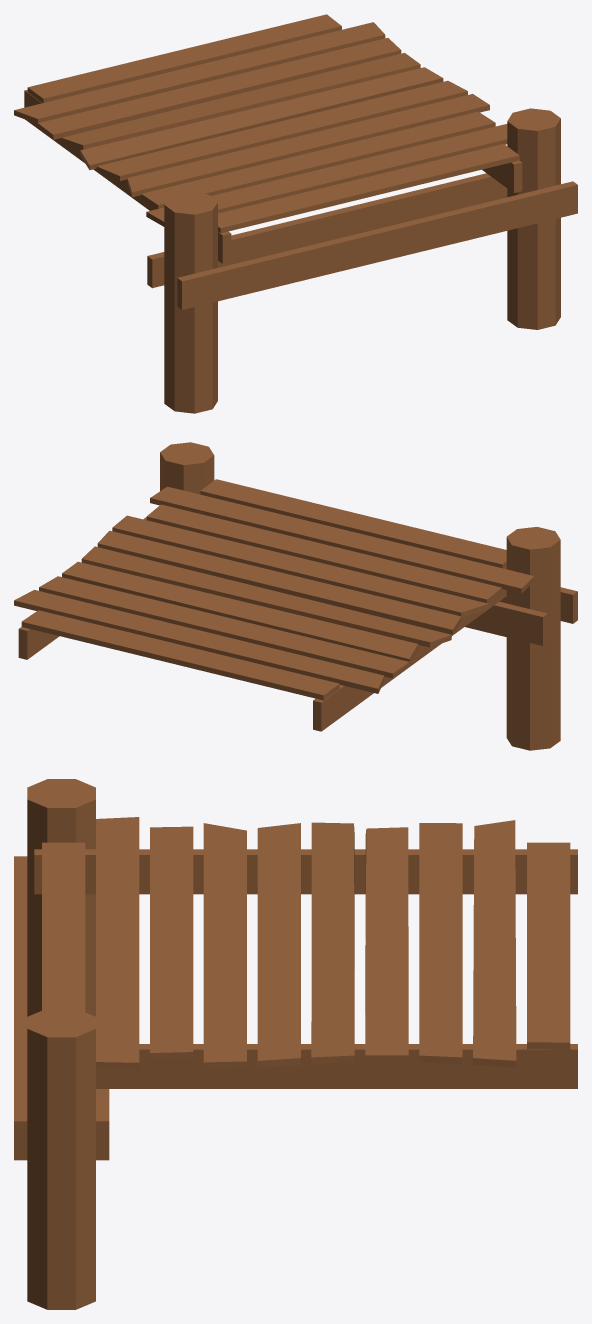
Rendered from Crocked Dock Attach 1.fbx.
3 renders of one model, top to bottom at view 1: azimuth 30°, elevation 25°; view 2: azimuth 150°, elevation 25°; view 3: azimuth 270°, elevation 25°, orthographic. The views are drawn at different scales.
Parts seen in each view (by area): view 1: Crocked Dock Attach 1; view 2: Crocked Dock Attach 1; view 3: Crocked Dock Attach 1.
Part boxes in pixels (x1,y1,x2,y2): Crocked Dock Attach 1: (14, 14, 577, 413); Crocked Dock Attach 1: (14, 442, 577, 750); Crocked Dock Attach 1: (14, 779, 577, 1309).
Size of the model in its own units: 407 by 195 by 366.
